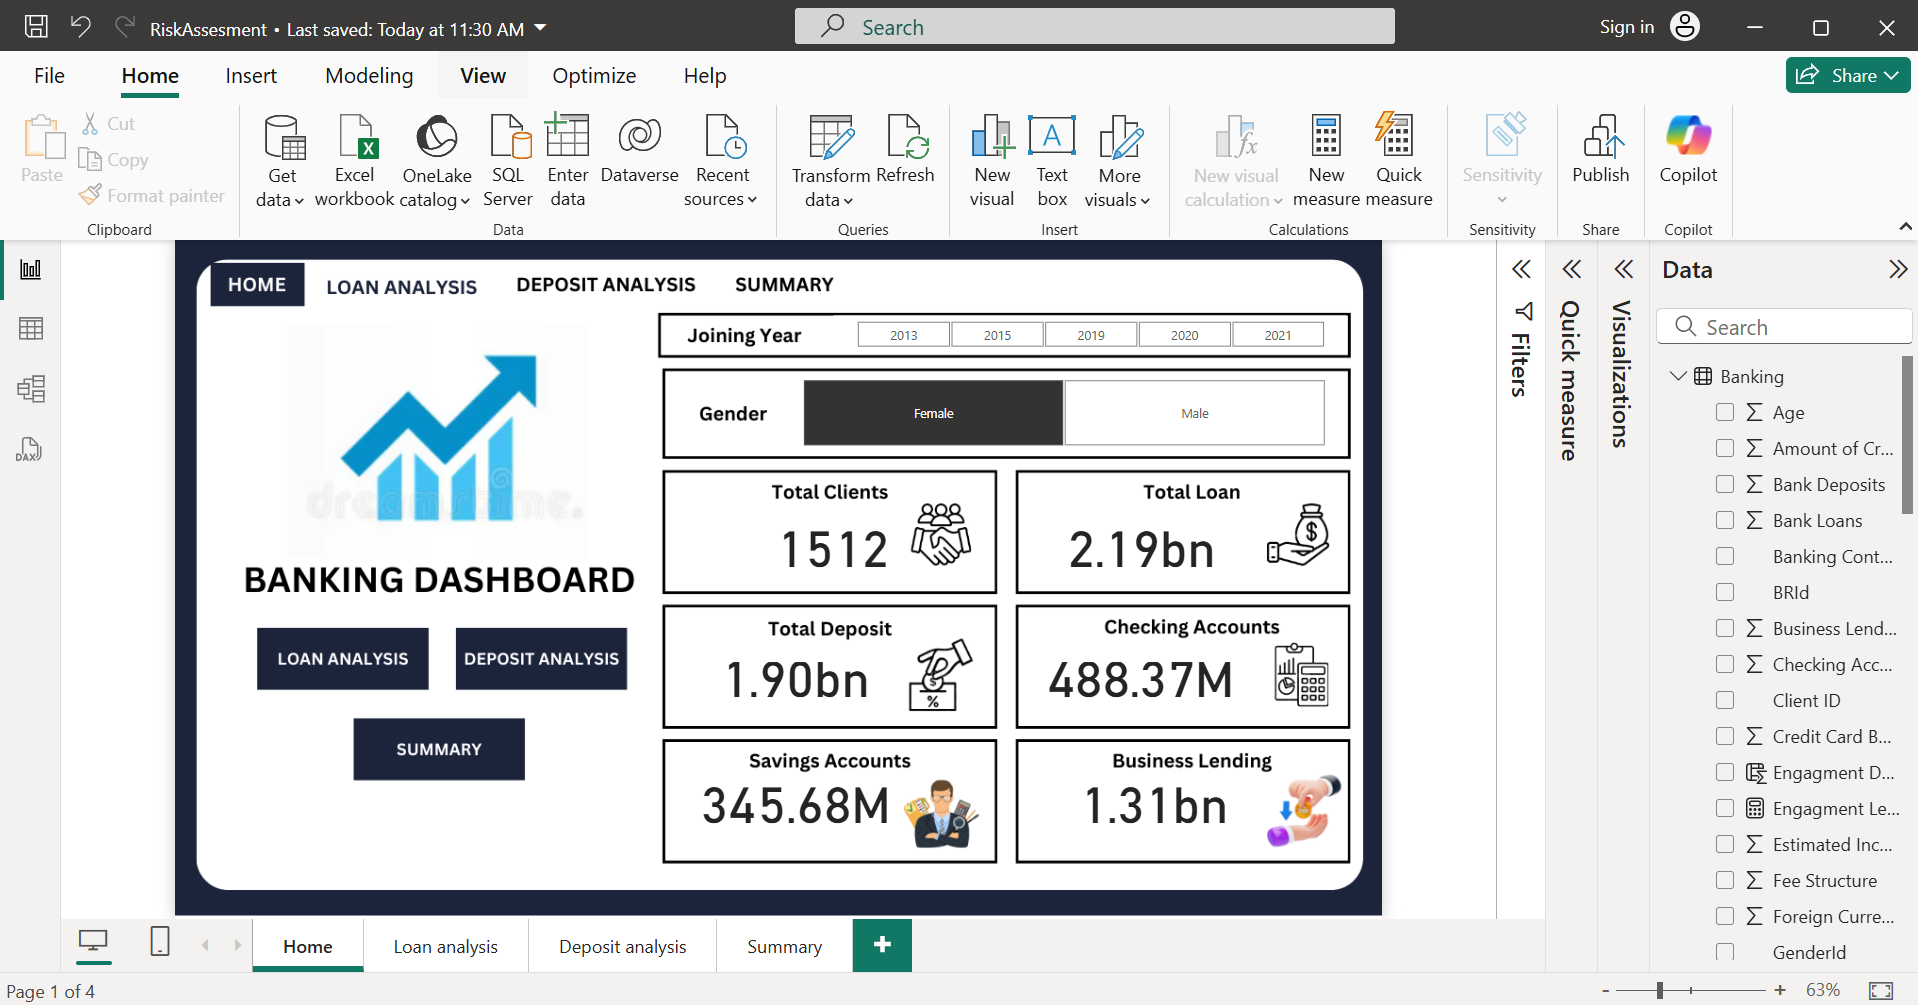

The dashboard page shown, as its layout file describes it:
{"tool":"powerbi","page":{"name":"Home ","canvas":[1280,720],"ordinal":0},"visuals":[{"type":"slicer","fields":{"Values":["Banking.GenderId"]},"box":[640.4,142.3,601.9,82.7],"z":0},{"type":"card","fields":{"Values":["CountNonNull(Banking.Name)"]},"box":[621.2,301.9,151.9,57.7],"z":1000},{"type":"card","fields":{"Values":["Banking.Total Loan"]},"box":[907.7,301.9,232.7,57.7],"z":2000},{"type":"card","fields":{"Values":["Banking.Total Deposit"]},"box":[542.3,442.3,230.8,53.8],"z":3000},{"type":"card","fields":{"Values":["Sum(Banking.Checking Accounts)"]},"box":[907.7,442.3,230.8,53.8],"z":4000},{"type":"card","fields":{"Values":["Sum(Banking.Saving Accounts)"]},"box":[542.3,569.2,230.8,67.3],"z":5000},{"type":"card","fields":{"Values":["Sum(Banking.Business Lending)"]},"box":[923.1,569.2,230.8,67.3],"z":6000},{"type":"slicer","fields":{"Values":["Banking.Year of Joining"]},"box":[698.1,78.8,544.2,40.4],"z":7000},{"type":"actionButton","box":[88.5,411.5,178.8,63.5],"z":8000},{"type":"actionButton","box":[298.1,411.5,178.8,63.5],"z":9000},{"type":"actionButton","box":[194.2,505.8,178.8,63.5],"z":10000}]}

Visuals, with their boxes on the page's 1280x720 design canvas (x1, y1, x2, y2). These are canvas units, not pixel positions in the 1918x1005 screenshot, which may show the page scaled, cropped or inside an application window:
slicer - Banking.GenderId: 640 142 1242 225
card - CountNonNull(Banking.Name): 621 302 773 360
card - Banking.Total Loan: 908 302 1140 360
card - Banking.Total Deposit: 542 442 773 496
card - Sum(Banking.Checking Accounts): 908 442 1138 496
card - Sum(Banking.Saving Accounts): 542 569 773 636
card - Sum(Banking.Business Lending): 923 569 1154 636
slicer - Banking.Year of Joining: 698 79 1242 119
actionButton: 88 412 267 475
actionButton: 298 412 477 475
actionButton: 194 506 373 569
